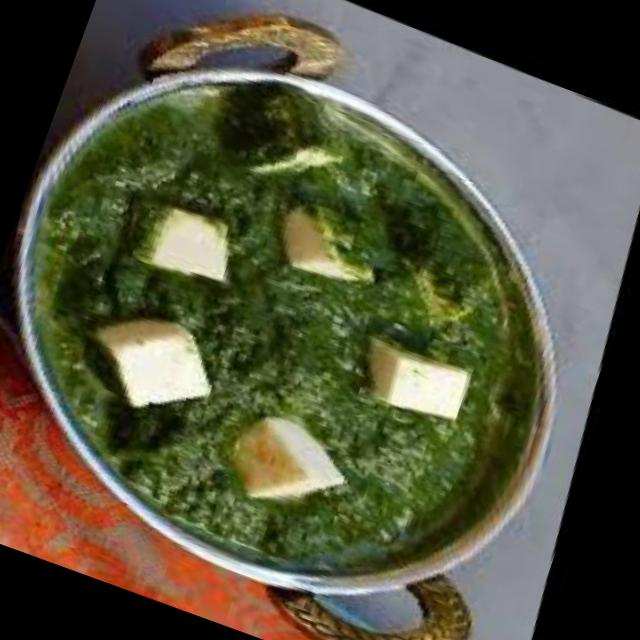palak_paneer: (0, 8, 631, 640)
